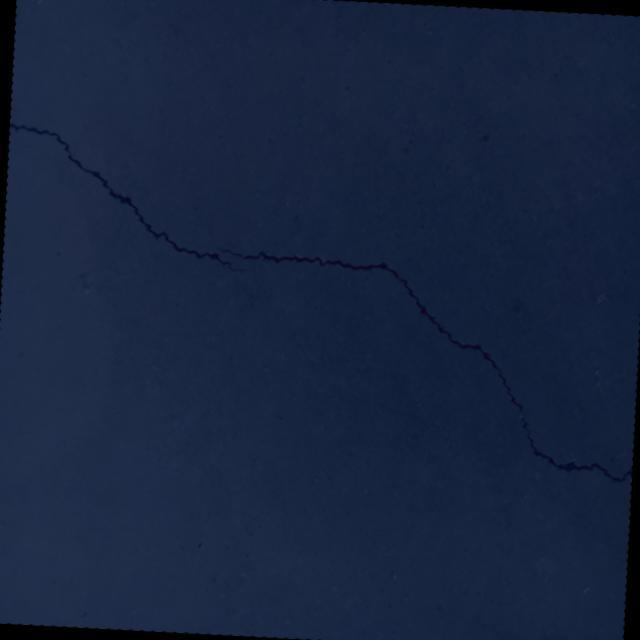crack: (203, 246, 640, 483), (3, 124, 258, 274)
